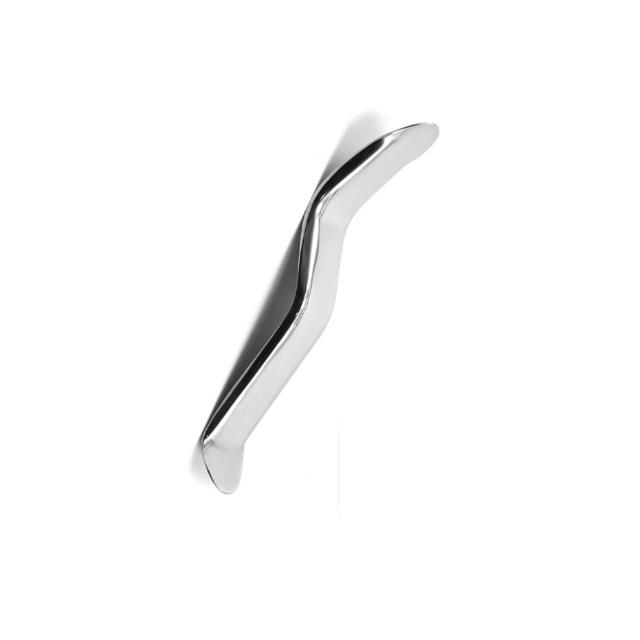separador: (200, 122, 439, 497)
